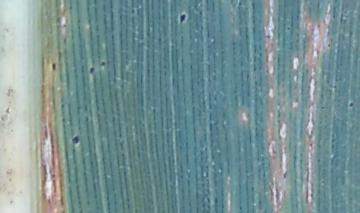tarspot: (178, 13, 186, 25), (71, 135, 80, 145), (4, 105, 12, 115), (262, 33, 272, 40), (282, 169, 288, 180), (88, 66, 96, 74), (270, 146, 277, 155), (197, 8, 204, 17), (62, 22, 69, 30), (325, 42, 333, 49), (319, 104, 326, 112), (59, 101, 66, 109), (51, 62, 56, 72), (249, 185, 256, 192), (348, 102, 355, 108), (285, 26, 291, 33), (237, 204, 243, 211), (99, 61, 106, 66), (316, 22, 321, 29)
